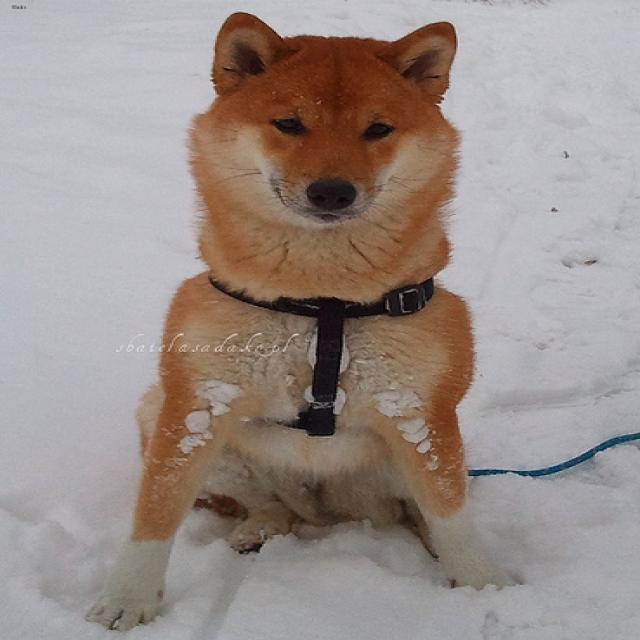dog-shiba_inu: (68, 1, 545, 637)
